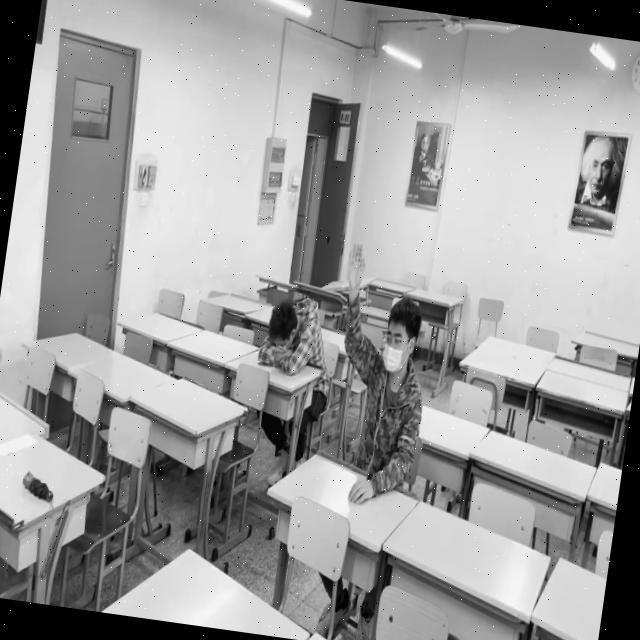sleep: (256, 302, 319, 373)
study: (317, 246, 442, 503)
